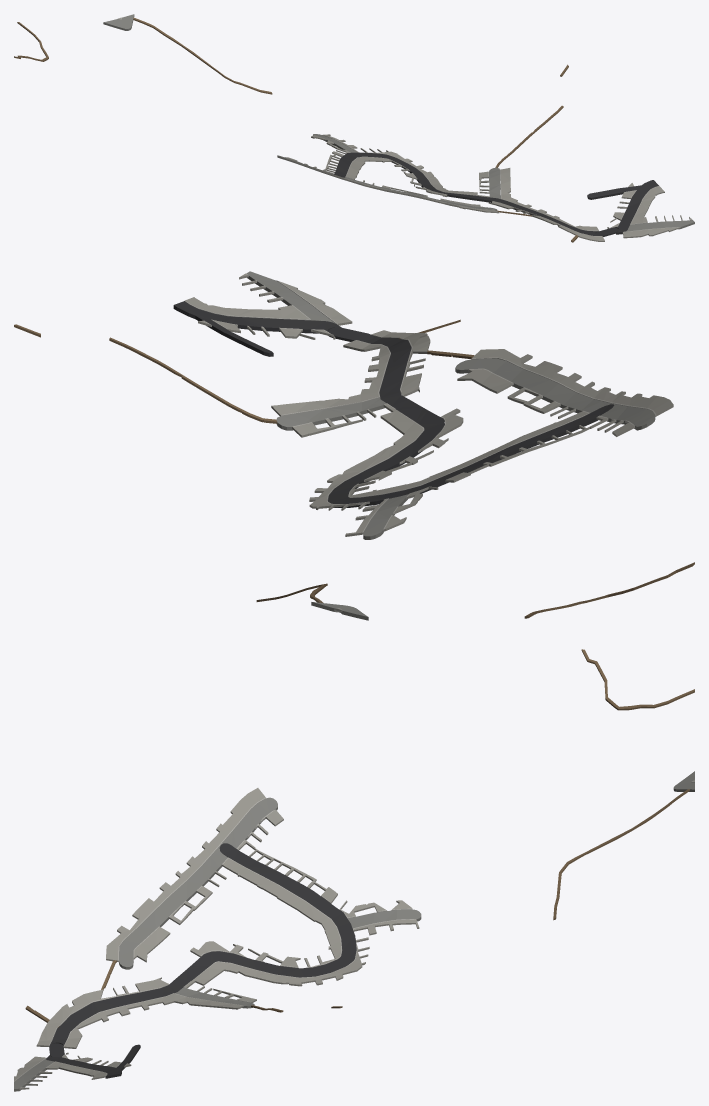
The picture shows the model from 3 angles, top to bottom: view 1: azimuth 30°, elevation 25°; view 2: azimuth 150°, elevation 25°; view 3: azimuth 270°, elevation 25°; orthographic projection. The views are drawn at different scales.
Size of the model in its own units: 293 by 75.28 by 292.
